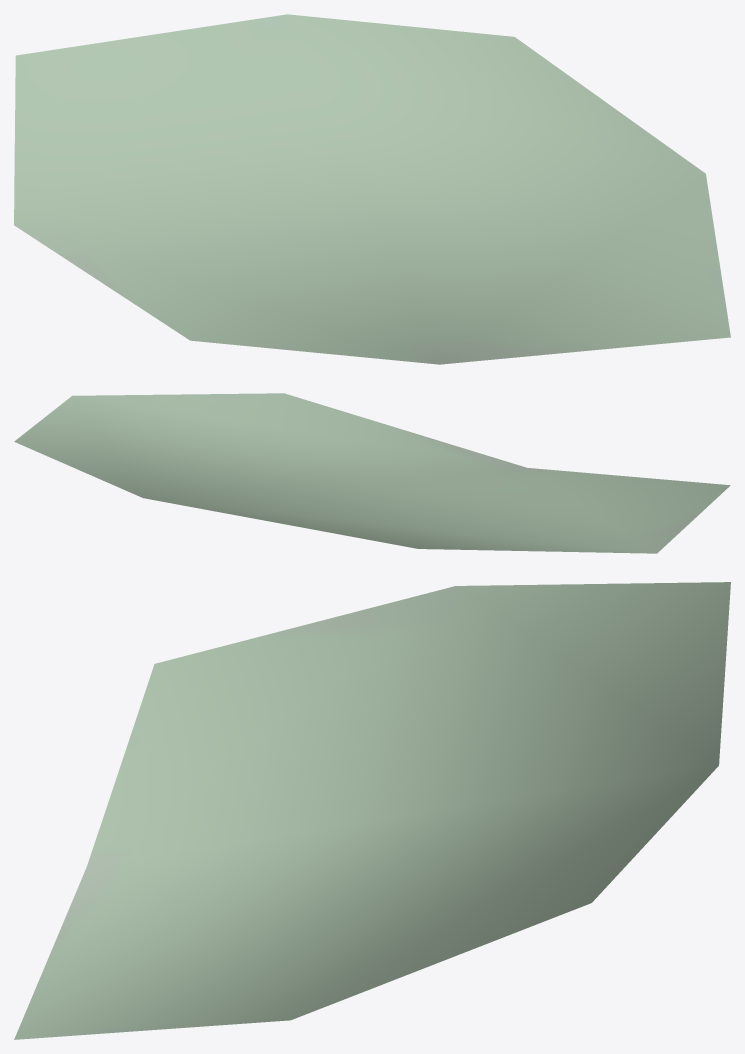
The model's file is TROLLHOLE02_HOLECAP207.fbx.
The picture shows the model from 3 angles, top to bottom: view 1: azimuth 30°, elevation 25°; view 2: azimuth 150°, elevation 25°; view 3: azimuth 270°, elevation 25°; orthographic projection. The views are drawn at different scales.
Parts seen in each view (by area): view 1: TROLLHOLE02_HOLECAP207; view 2: TROLLHOLE02_HOLECAP207; view 3: TROLLHOLE02_HOLECAP207.
Part boxes in pixels (x1,y1,x2,y2): TROLLHOLE02_HOLECAP207: (14,14,730,364); TROLLHOLE02_HOLECAP207: (14,393,730,553); TROLLHOLE02_HOLECAP207: (14,582,730,1039).
Bounding box in the file's own units: 9185 × 2385 × 7487.
Materials: 1 (1 with a texture image).
